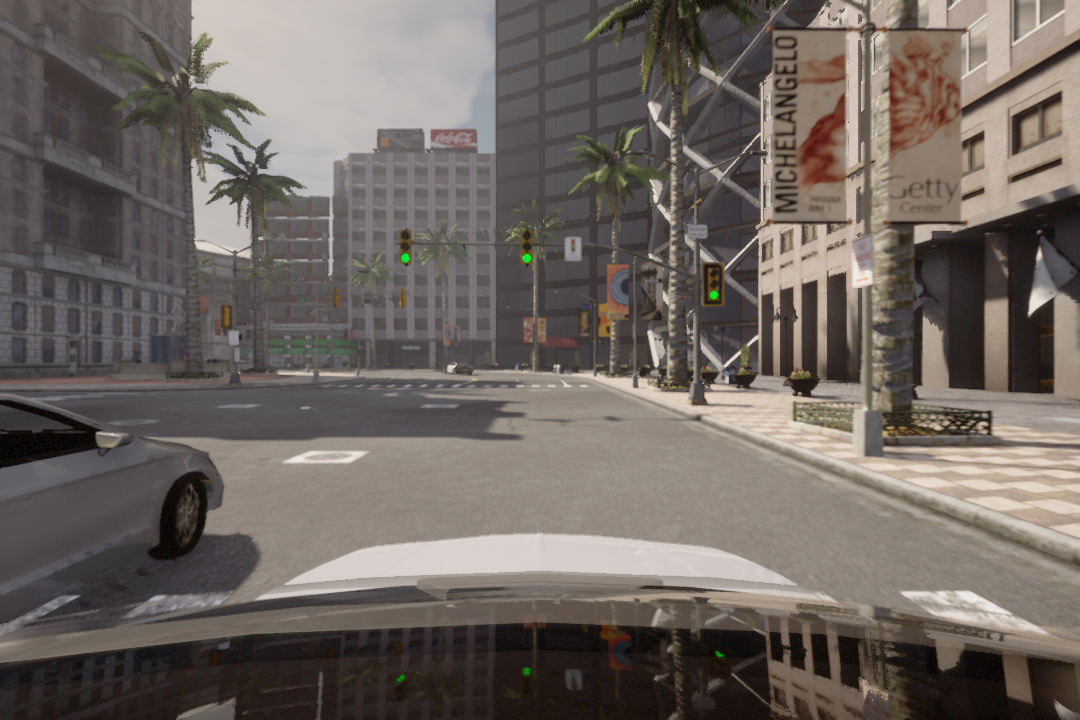TrafficLight: (699, 263, 723, 304), (517, 227, 536, 267), (399, 227, 415, 267)
